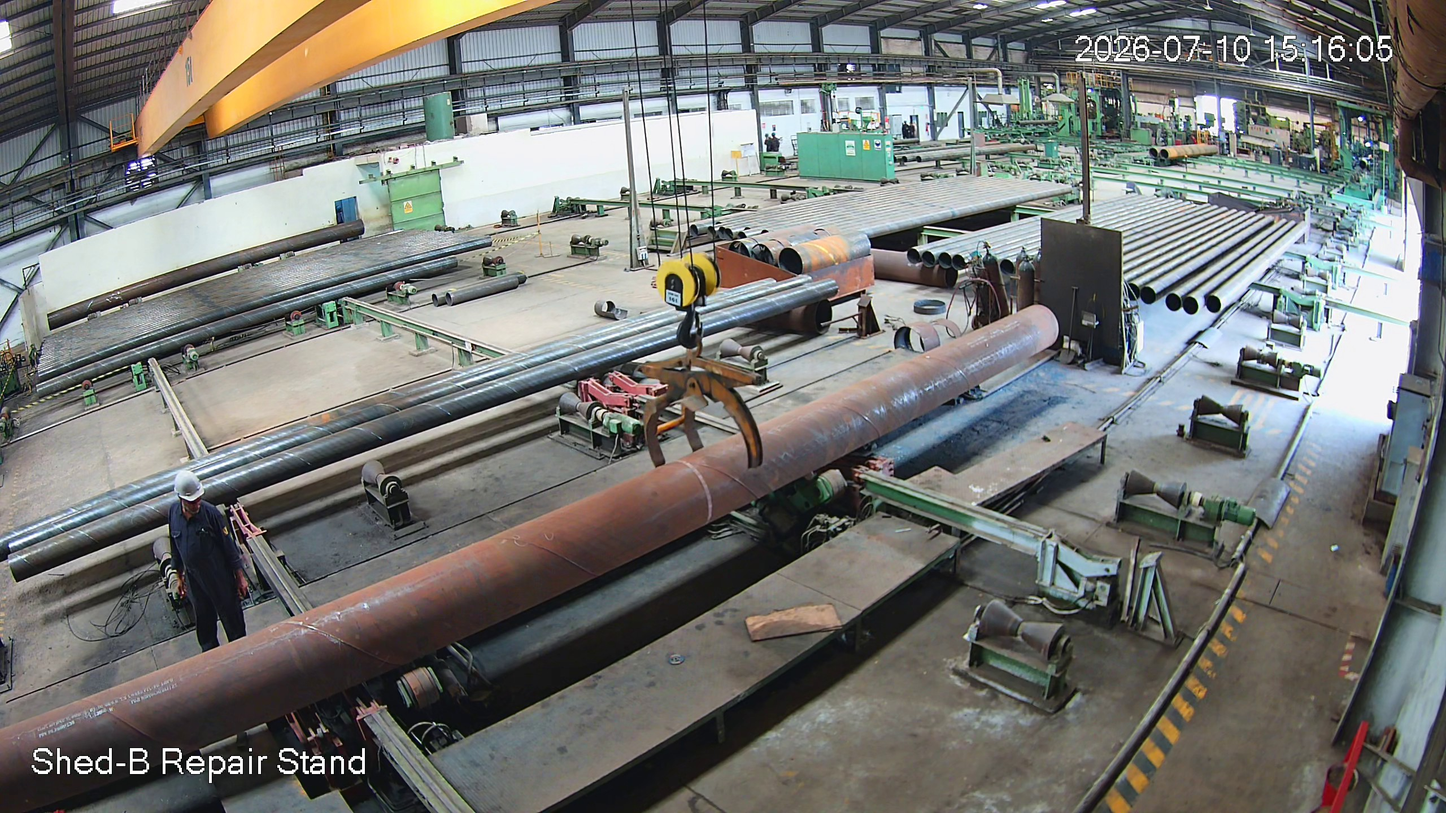Helmet: (165, 470, 226, 538)
Person: (149, 476, 259, 648)
